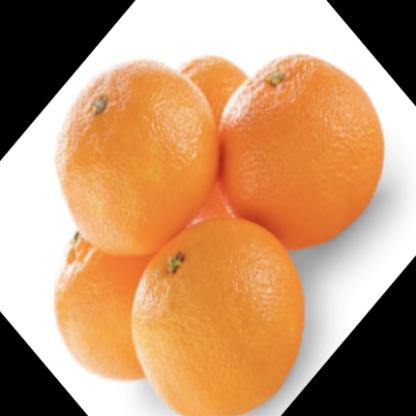fresh: (53, 56, 386, 416)
